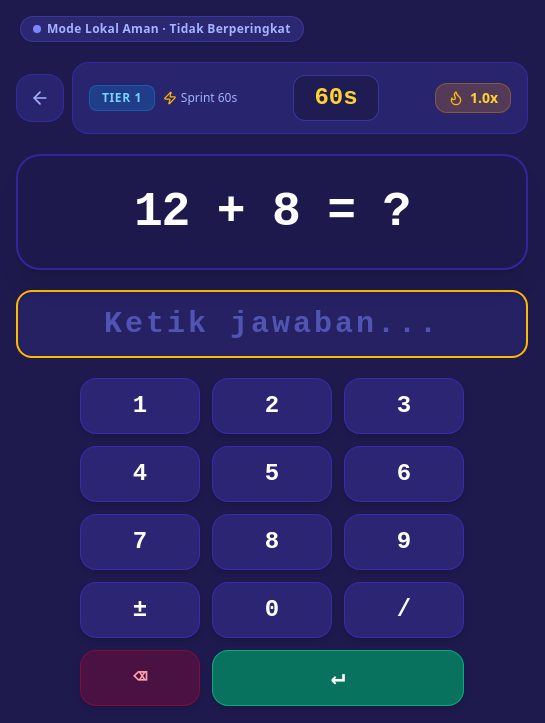
CompetitivePlayScreen › updates input value when numeric keypad buttons are clicked
Check: the field with placeholder "Ketik jawaban..." is empty, box [16,290,528,358]
Click the button "2". click: (272,406)
box: [212,378,332,434]
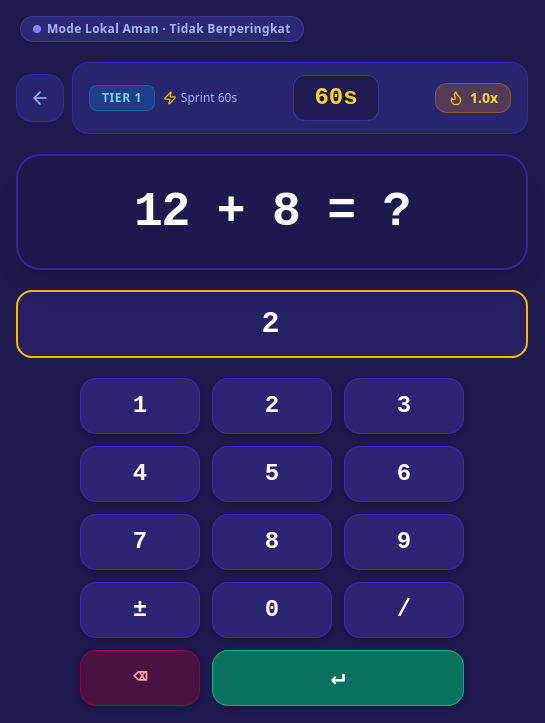
Check: the field with placeholder "Ketik jawaban..." holds "2", box [16,290,528,358]
Click the button "0". click: (272,610)
box: [212,582,332,638]
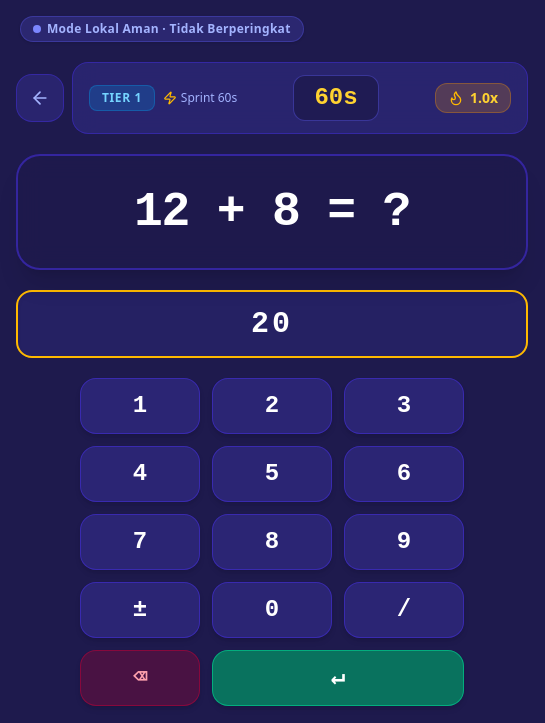
Check: the field with placeholder "Ketik jawaban..." holds "20", box [16,290,528,358]
